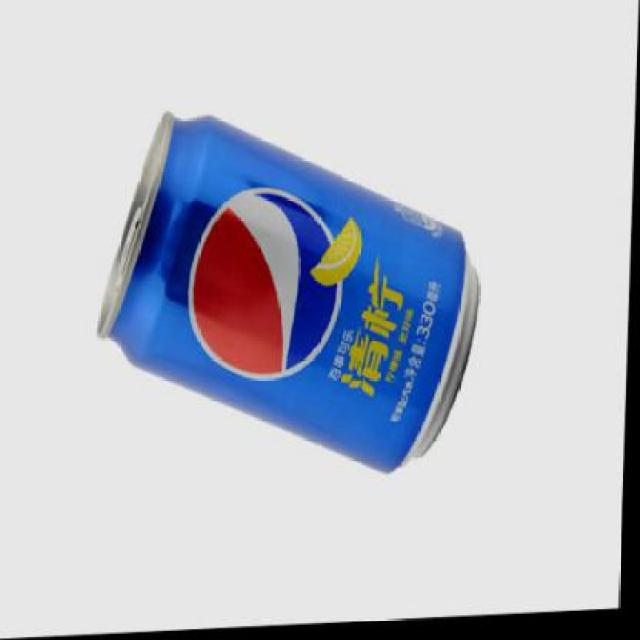Metal: (88, 100, 483, 483)
